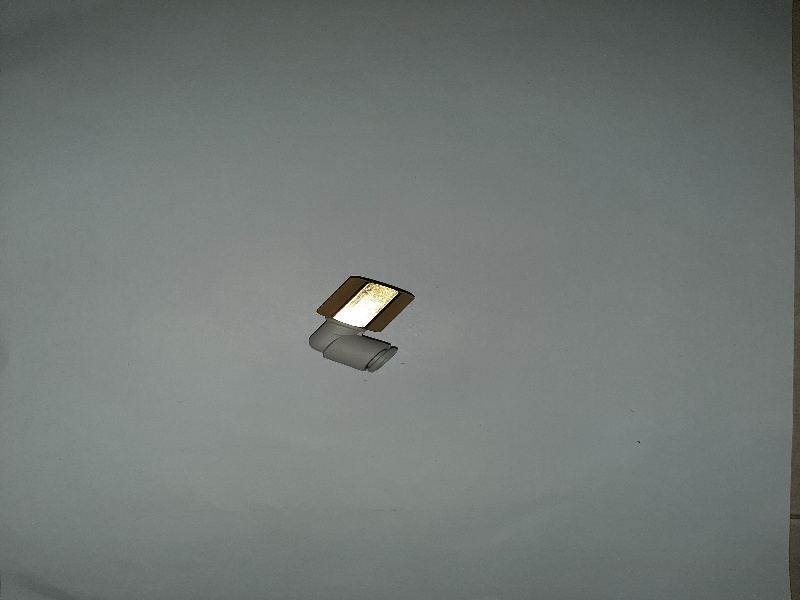Connector: (304, 268, 419, 380)
